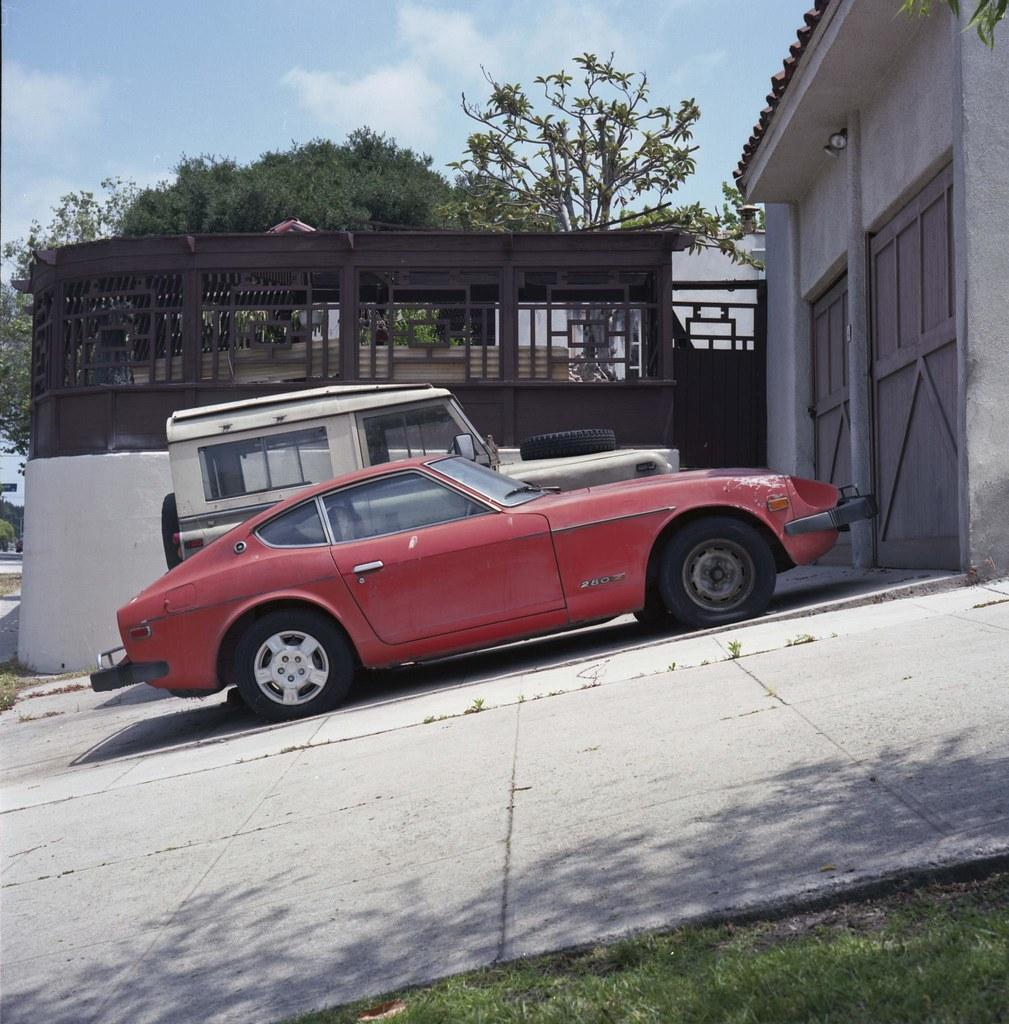car: (90, 438, 874, 722), (152, 377, 691, 575)
